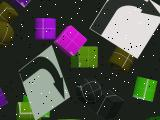Right: (89, 0, 160, 59), (19, 45, 70, 120)
